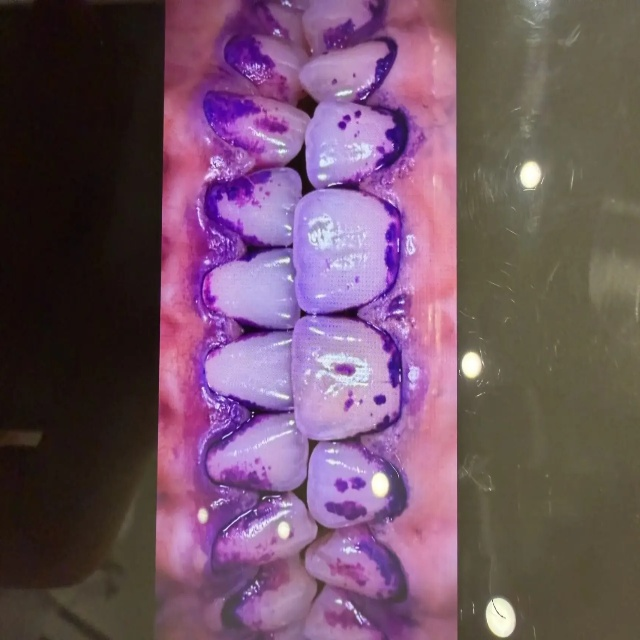clean_tooth: (603, 264, 639, 299), (485, 601, 515, 636), (516, 158, 546, 191), (461, 350, 484, 379)
plaque: (161, 0, 454, 639)
